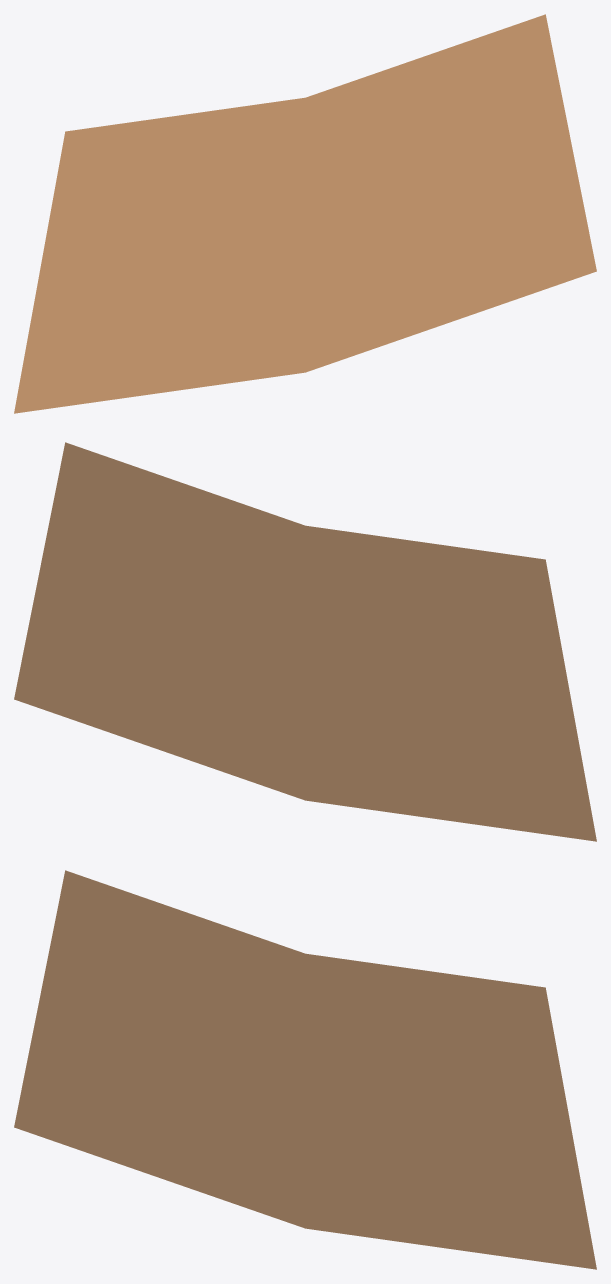
The model's file is Penalty_Short4.fbx.
3 views of the same model, one above another, from view 1: azimuth 30°, elevation 25°; view 2: azimuth 150°, elevation 25°; view 3: azimuth 330°, elevation 25° (orthographic).
Parts seen in each view (by area): view 1: Cylinder; view 2: Cylinder; view 3: Cylinder.
Boxes of the visible parts, bbox=[...] form: Cylinder: bbox=[14, 14, 596, 413]; Cylinder: bbox=[14, 442, 596, 841]; Cylinder: bbox=[14, 870, 596, 1269].
Size of the model in its own units: 293 by 144 by 0.
